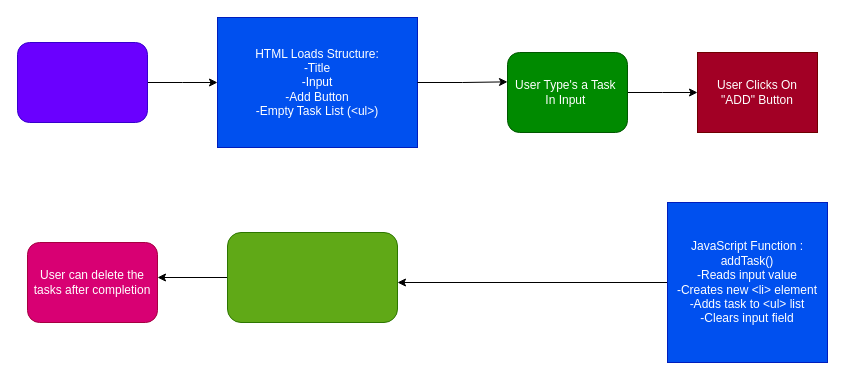
This 845x380 diagram has some shape labels left out. The shapes that lost their labels are listed below. From the top down, each one's box as (x1, y1, x2, y2) in pixels, then its label:
(16, 42, 148, 122): User Open's Page
(226, 232, 398, 322): Tasks Appears In the List
